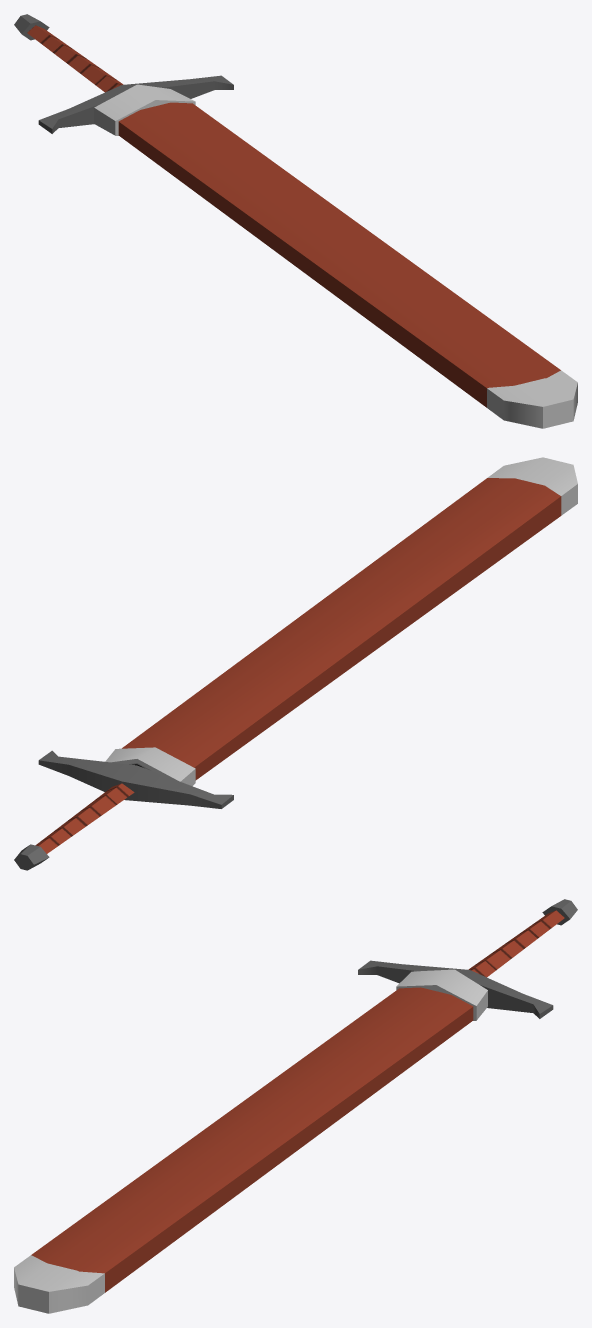
The model's file is GreatswordBasic.glb.
3 renders of one model, top to bottom at view 1: azimuth 30°, elevation 25°; view 2: azimuth 150°, elevation 25°; view 3: azimuth 330°, elevation 25°, orthographic.
Parts seen in each view (by area): view 1: GreatswordScabbardBasic, GreatswordBasic.001; view 2: GreatswordScabbardBasic, GreatswordBasic.001; view 3: GreatswordScabbardBasic, GreatswordBasic.001.
Part boxes in pixels (x1,y1,x2,y2): GreatswordScabbardBasic: [94, 84, 577, 428]; GreatswordBasic.001: [14, 14, 233, 133]; GreatswordScabbardBasic: [105, 457, 577, 786]; GreatswordBasic.001: [14, 750, 233, 870]; GreatswordScabbardBasic: [14, 969, 487, 1313]; GreatswordBasic.001: [358, 899, 577, 1018].
Size of the model in its own units: 0.375 by 0.0813 by 1.9.
Materials: 1 (1 with a texture image).
